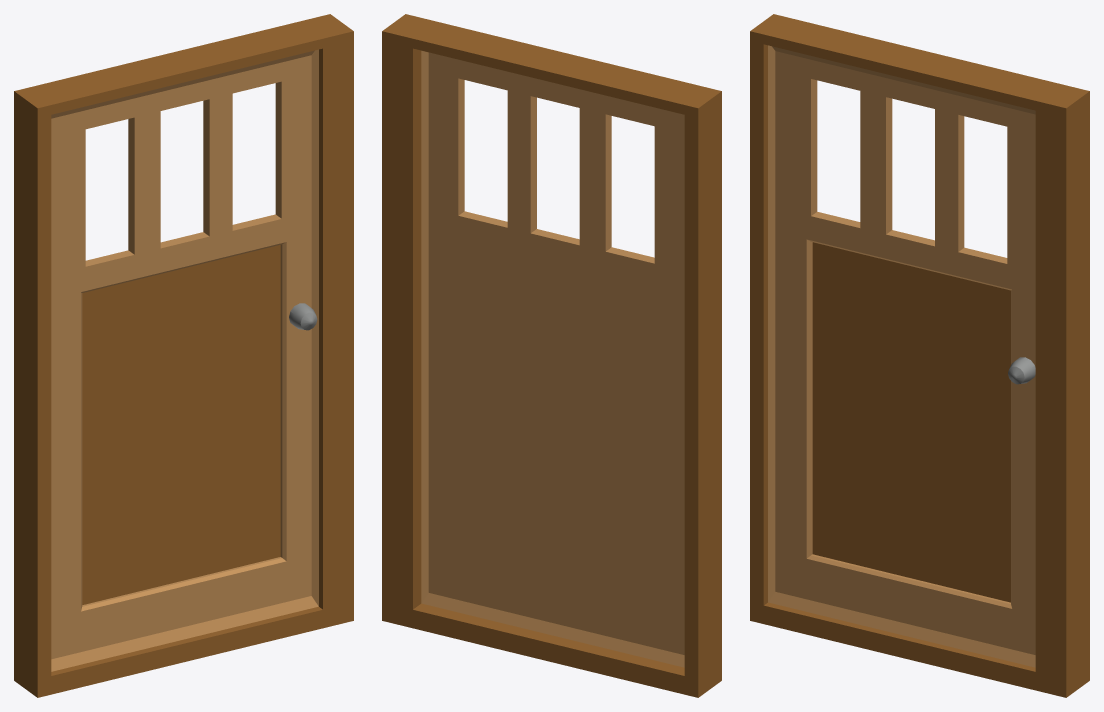
Rendered from M_prop_Tür_Leon_Goihl.fbx.
3 renders of one model, left to right at view 1: azimuth 30°, elevation 25°; view 2: azimuth 150°, elevation 25°; view 3: azimuth 330°, elevation 25°, orthographic.
Parts seen in each view (by area): view 1: polySurface3, polySurface1; view 2: polySurface3, polySurface1; view 3: polySurface3, polySurface1.
Part boxes in pixels (bbox=[...]): polySurface3: bbox=[51, 49, 318, 671]; polySurface1: bbox=[14, 14, 353, 697]; polySurface3: bbox=[421, 50, 684, 667]; polySurface1: bbox=[382, 14, 721, 697]; polySurface3: bbox=[768, 45, 1035, 667]; polySurface1: bbox=[750, 14, 1089, 697].
Bounding box in the file's own units: 117 × 208 × 18.
